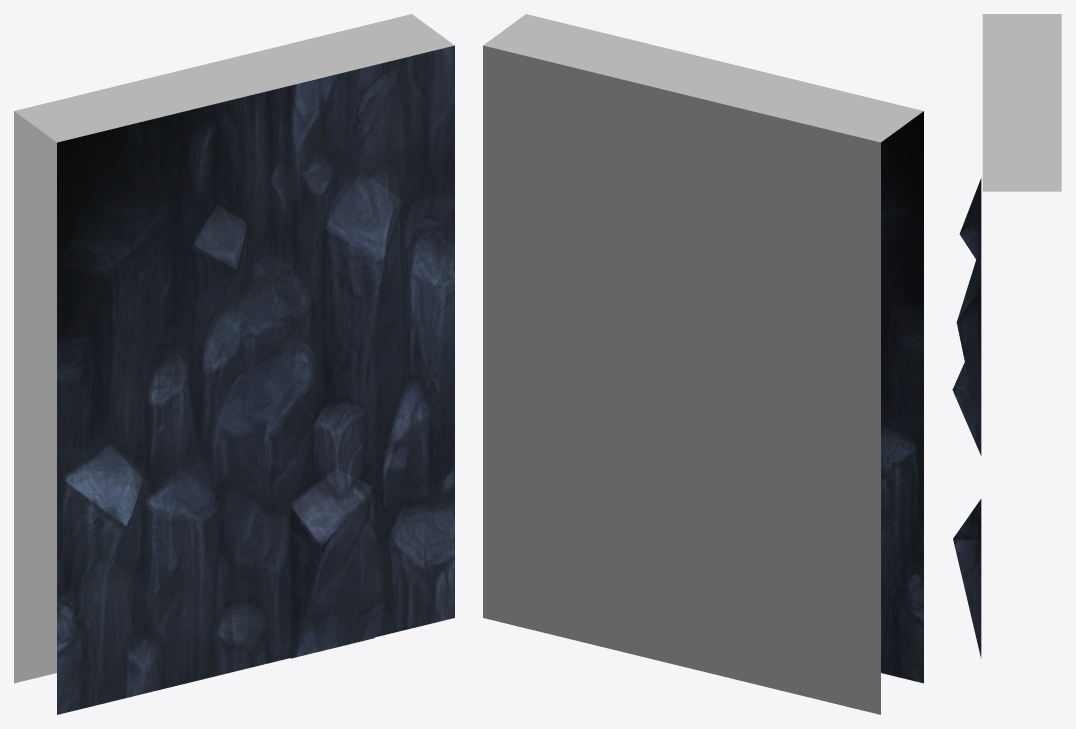
The model's file is mine_fade_transition_04.fbx.
3 views of the same model, side by side, from view 1: azimuth 30°, elevation 25°; view 2: azimuth 150°, elevation 25°; view 3: azimuth 270°, elevation 25° (orthographic). The views are drawn at different scales.
Visible parts, largest first — view 1: mine_fade_transition_04-0; view 2: mine_fade_transition_04-0; view 3: mine_fade_transition_04-0.
Part boxes in pixels (left/top/right/bottom): mine_fade_transition_04-0: left=14, top=14, right=454, bottom=714; mine_fade_transition_04-0: left=483, top=14, right=923, bottom=714; mine_fade_transition_04-0: left=952, top=14, right=1061, bottom=658.
Bounding box in the file's own units: 4 × 5.5 × 1.04.
